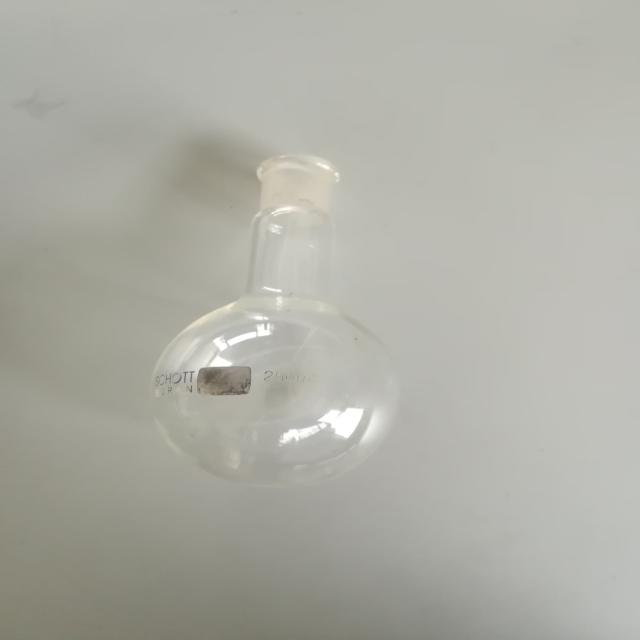Round_Bottom_Flask_Borosilicate_Glass_1_Neck: (104, 86, 462, 511)
